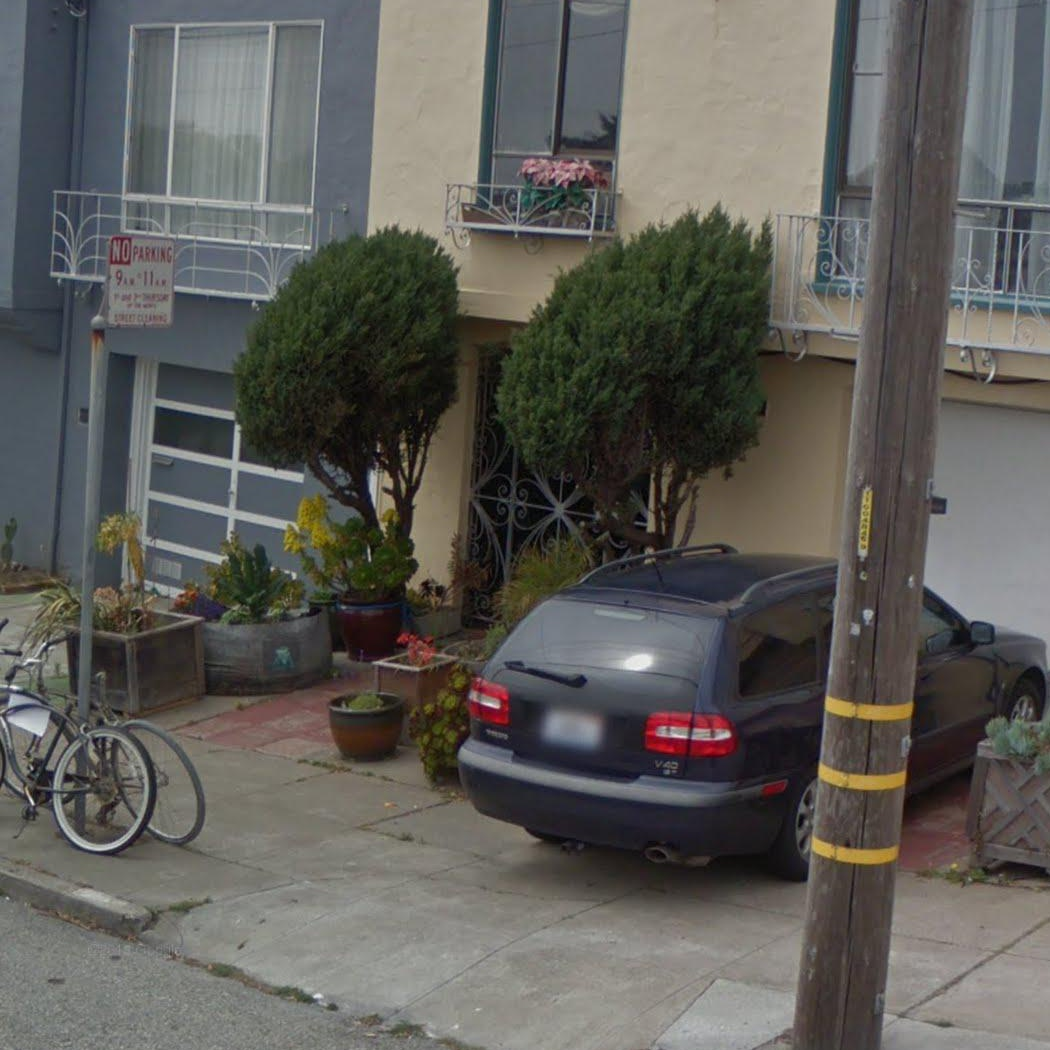No Parking: (104, 232, 177, 331)
